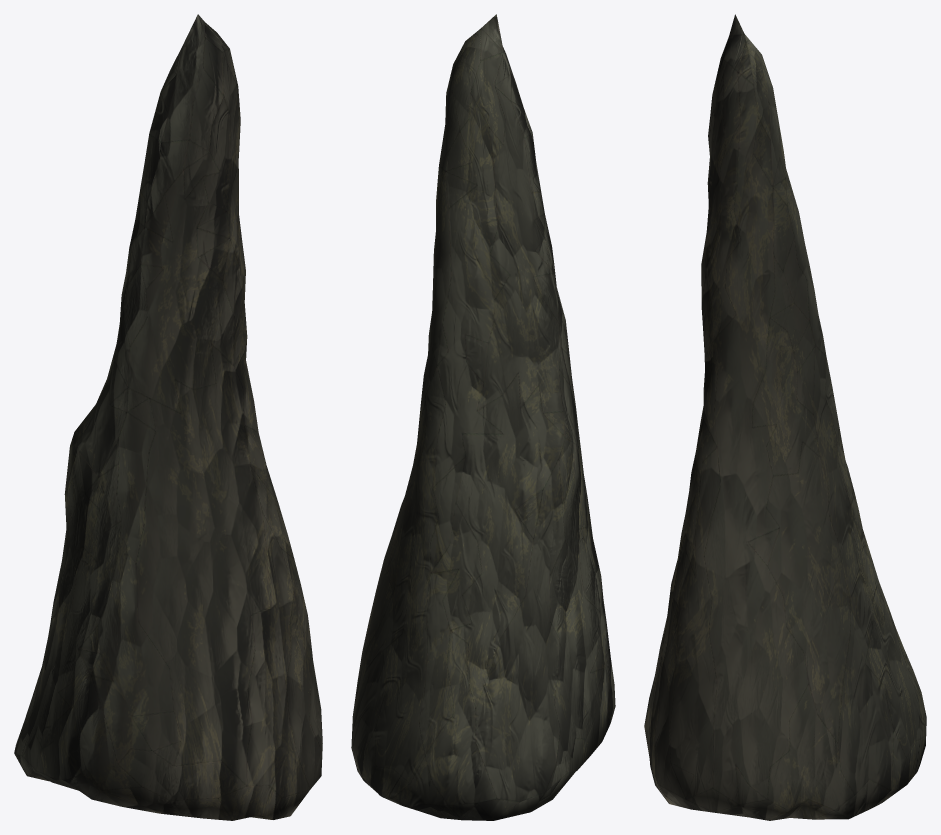
File: stalagmite.gltf
3 renders of one model, left to right at view 1: azimuth 30°, elevation 25°; view 2: azimuth 150°, elevation 25°; view 3: azimuth 270°, elevation 25°, orthographic. The views are drawn at different scales.
Visible parts, largest first — view 1: Icosphere; view 2: Icosphere; view 3: Icosphere.
Part boxes in pixels (bbox=[...]): Icosphere: bbox=[14, 14, 322, 820]; Icosphere: bbox=[351, 14, 615, 820]; Icosphere: bbox=[644, 14, 926, 820].
Size of the model in its own units: 1.5 by 4.62 by 1.54.
Materials: 1 (1 with a texture image).
